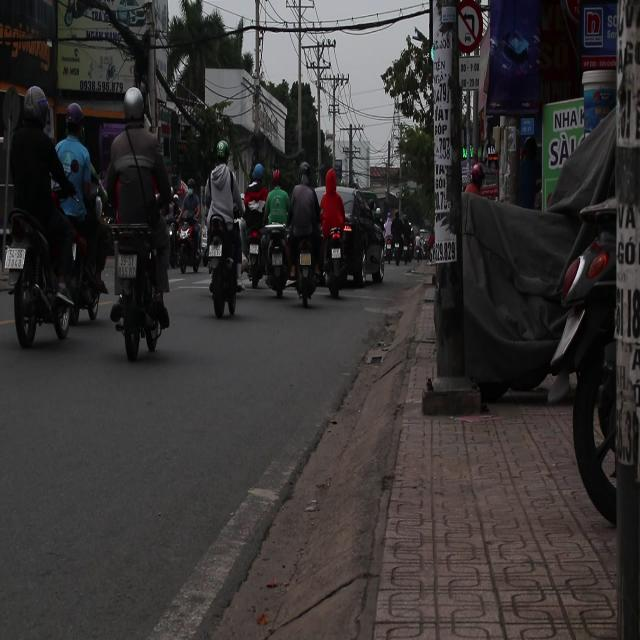car: (344, 188, 386, 287)
motorbike: (5, 210, 76, 348), (110, 218, 170, 362), (208, 220, 245, 318), (256, 222, 292, 297), (292, 232, 322, 308), (175, 216, 201, 274)
